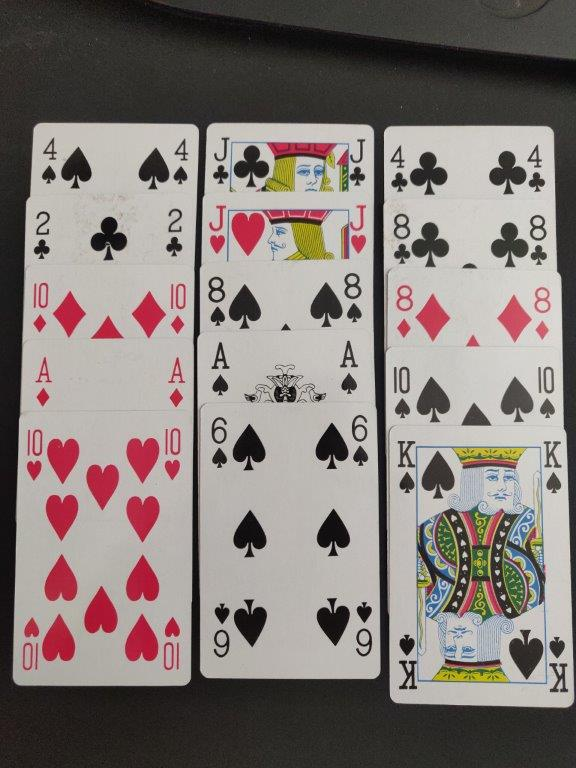10D: (29, 276, 55, 337), (164, 276, 189, 337)
10H: (161, 421, 186, 484), (22, 422, 46, 484)
10S: (387, 358, 416, 422), (533, 362, 561, 422)
2C: (30, 207, 57, 267), (163, 203, 187, 260)
4C: (387, 139, 414, 199), (524, 139, 551, 197)
4S: (36, 130, 62, 186), (170, 134, 192, 191)
6S: (205, 411, 235, 473), (347, 410, 375, 473)
8C: (388, 207, 415, 271), (526, 209, 553, 272)
8D: (391, 279, 418, 341), (532, 281, 556, 345)
8S: (204, 272, 233, 335), (340, 268, 369, 330)
AD: (164, 350, 190, 414), (30, 353, 59, 410)
AS: (337, 336, 364, 399), (207, 337, 234, 399)
JC: (209, 133, 237, 191), (346, 132, 372, 194)
JH: (206, 201, 232, 258), (346, 202, 372, 257)
KS: (391, 433, 421, 499), (539, 437, 566, 495)
